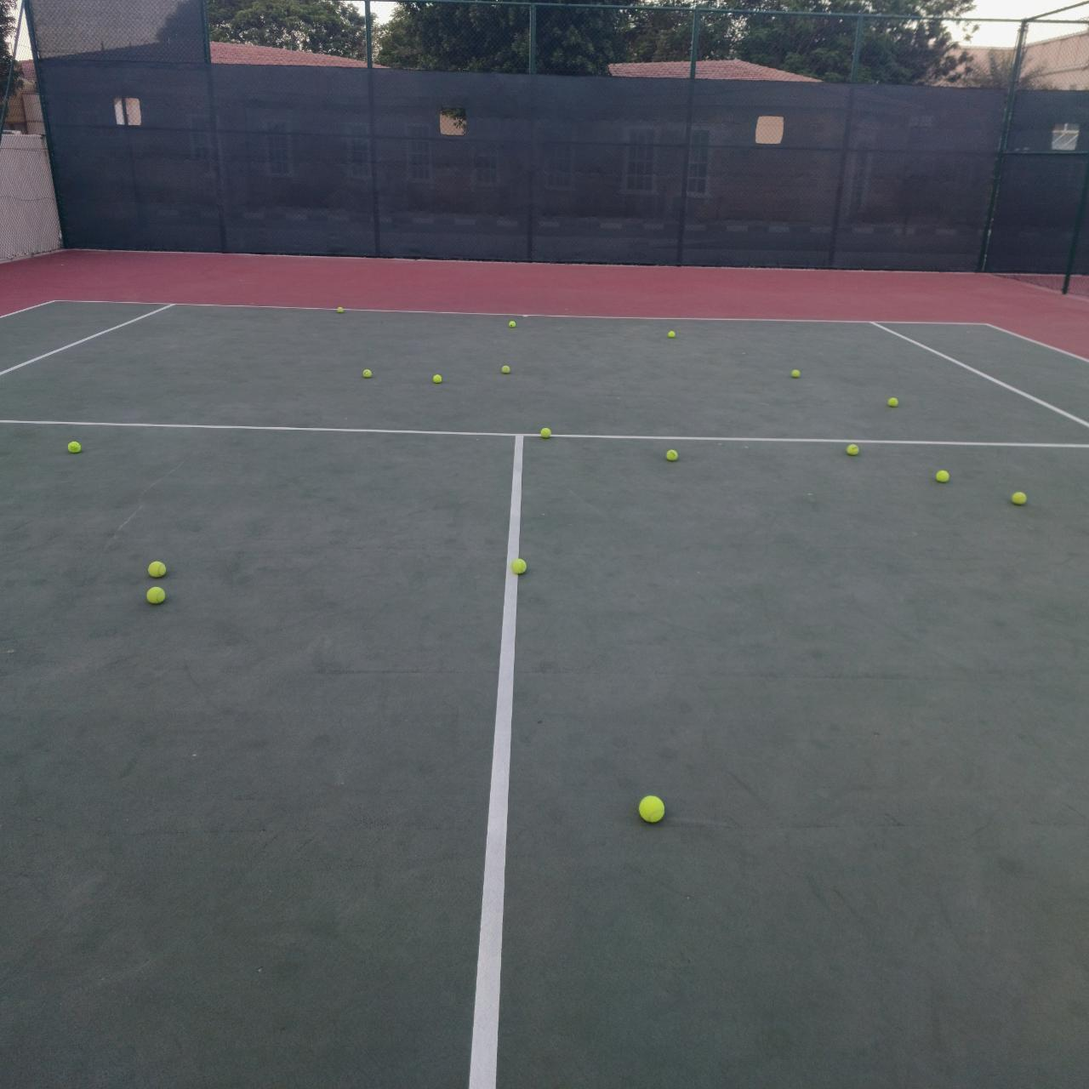tennis-ball: (637, 792, 667, 824), (147, 586, 166, 604), (512, 556, 529, 574), (148, 561, 167, 577), (1011, 491, 1028, 506), (68, 440, 82, 454), (935, 470, 950, 482), (666, 449, 678, 462), (846, 443, 859, 455), (540, 428, 552, 438), (888, 397, 898, 408), (362, 369, 373, 379), (791, 369, 800, 378), (501, 365, 510, 374), (433, 374, 442, 383), (668, 331, 676, 338), (337, 306, 344, 314), (509, 320, 516, 327)
